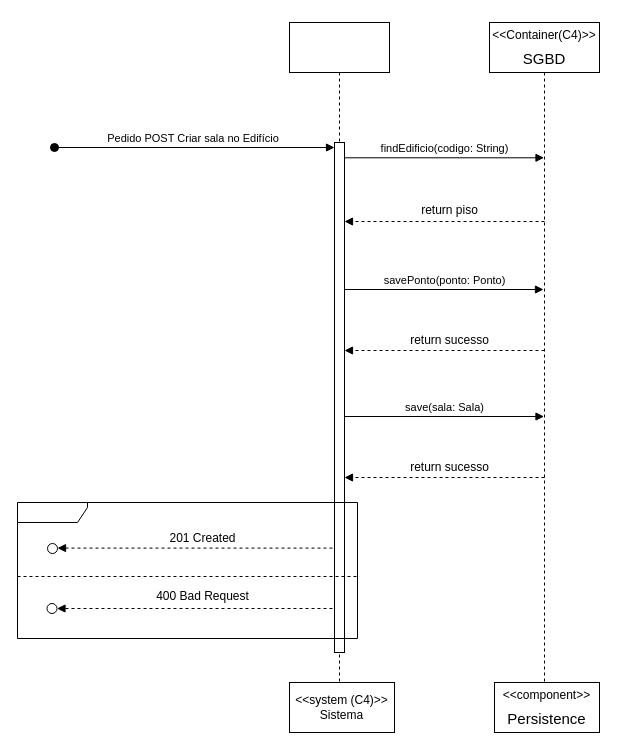
The diagram is 617 pixels wide and 755 high, and some of its shapes have lost their labels. The box of each missing label's shape, as (x1, y1, x2, y2) in pixels:
<<Container(C4)>> Sistema: (288, 22, 390, 692)
alt: (16, 502, 358, 638)
